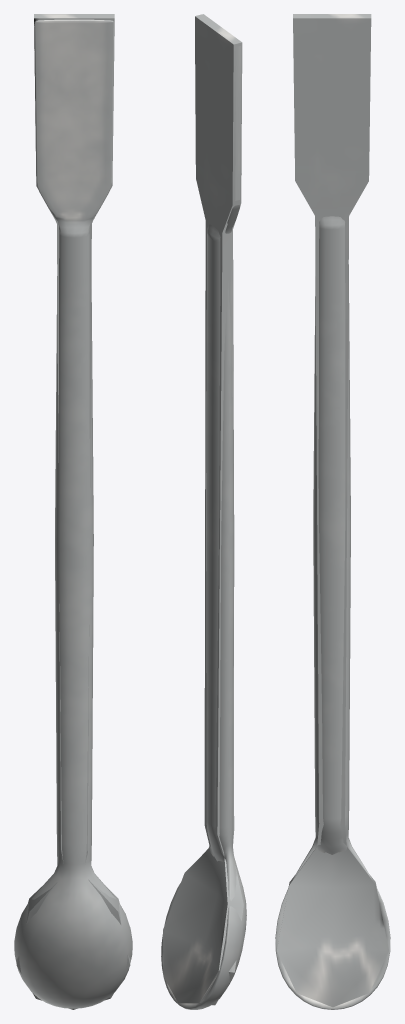
File: Spatula_Spoon.fbx
3 views of the same model, side by side, from view 1: azimuth 90°, elevation 25°; view 2: azimuth 210°, elevation 25°; view 3: azimuth 270°, elevation 25° (orthographic). The views are drawn at different scales.
Visible parts, largest first — view 1: Spatula_Spoon_LOD0, Spatula_Spoon_Colldr; view 2: Spatula_Spoon_Colldr, Spatula_Spoon_LOD0; view 3: Spatula_Spoon_Colldr, Spatula_Spoon_LOD0.
Boxes of the visible parts, x1,y1,x2,y2 form: Spatula_Spoon_LOD0: (14,19,132,1008); Spatula_Spoon_Colldr: (16,14,130,1009); Spatula_Spoon_Colldr: (163,14,243,1005); Spatula_Spoon_LOD0: (161,46,246,1009); Spatula_Spoon_Colldr: (277,14,388,1007); Spatula_Spoon_LOD0: (275,25,390,1009).
Size of what is drawn, in the model's own units: 1.26 by 19.29 by 2.06.
1 material, 1 textured.
